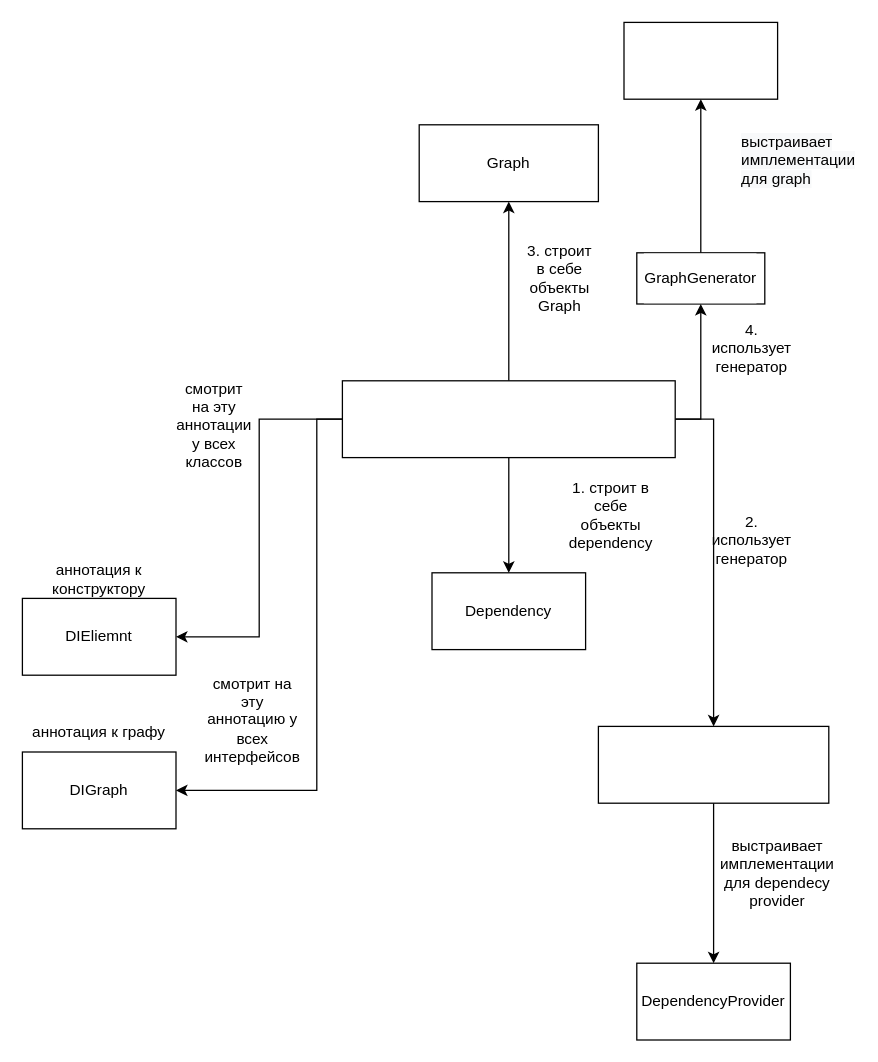
Some shapes in this 878 by 1062 pixel diagram are drawn without their labels. Here are the shapes that lost their labels. From the top down, the centre of each, then its label:
At point (700, 60): "Name_Graph".
At point (508, 419): "DependencyContainerAnnotationsProcessor".
At point (713, 764): "DependencyProviderGenerator".
